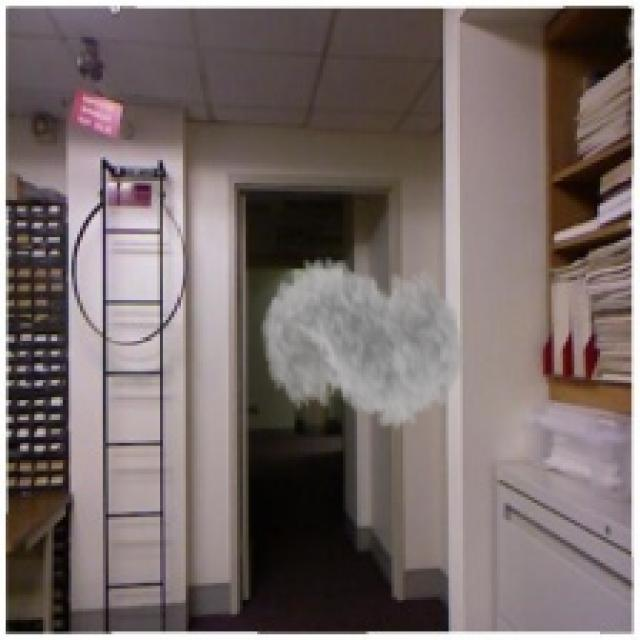smoke: (260, 234, 466, 446)
